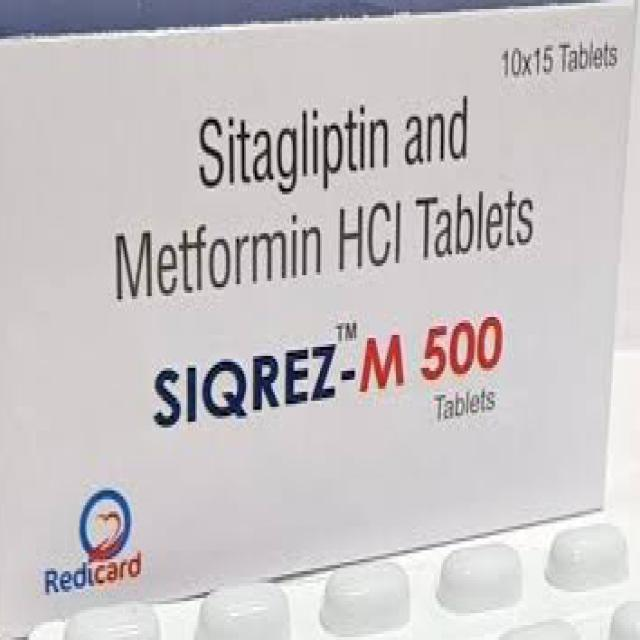drug-name: (150, 314, 508, 430)
